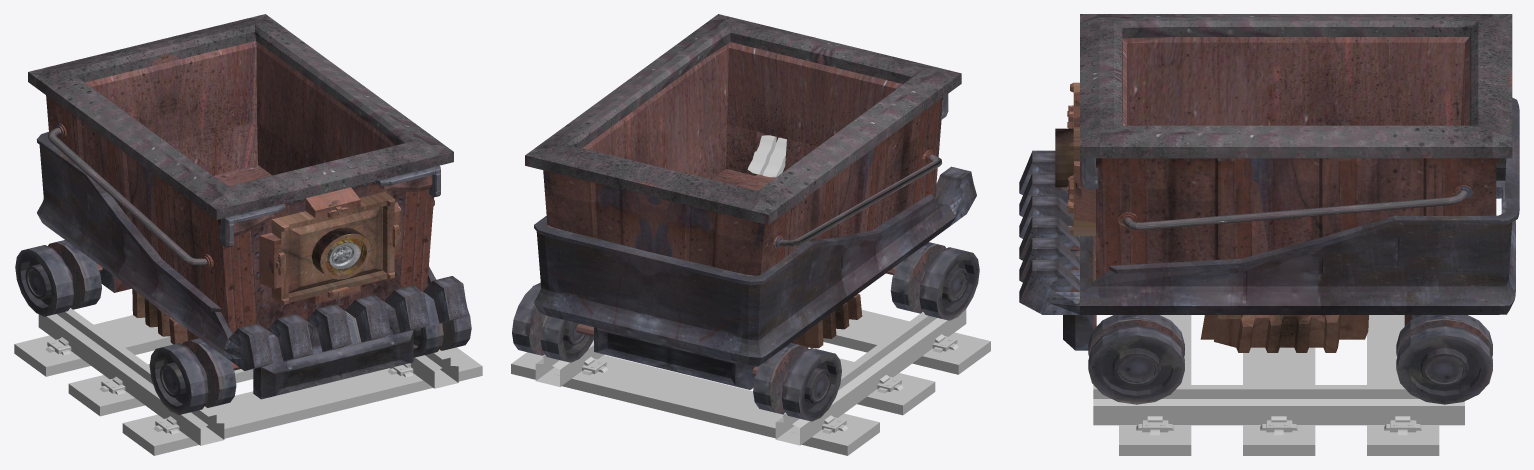
File: CoalTrain.FBX
The picture shows the model from 3 angles, left to right: view 1: azimuth 30°, elevation 25°; view 2: azimuth 150°, elevation 25°; view 3: azimuth 270°, elevation 25°; orthographic projection. The views are drawn at different scales.
Visible parts, largest first — view 1: Object010, rail stright144; view 2: Object010, rail stright144, Box005; view 3: Object010, rail stright144.
Part boxes in pixels (x1,y1,x2,y2): Object010: [15, 14, 471, 414]; rail stright144: [14, 308, 482, 455]; Object010: [512, 14, 979, 421]; rail stright144: [511, 309, 990, 455]; Box005: [747, 135, 786, 177]; Object010: [1019, 14, 1519, 404]; rail stright144: [1093, 315, 1464, 455].
Size of the model in its own units: 140 by 104 by 161.
